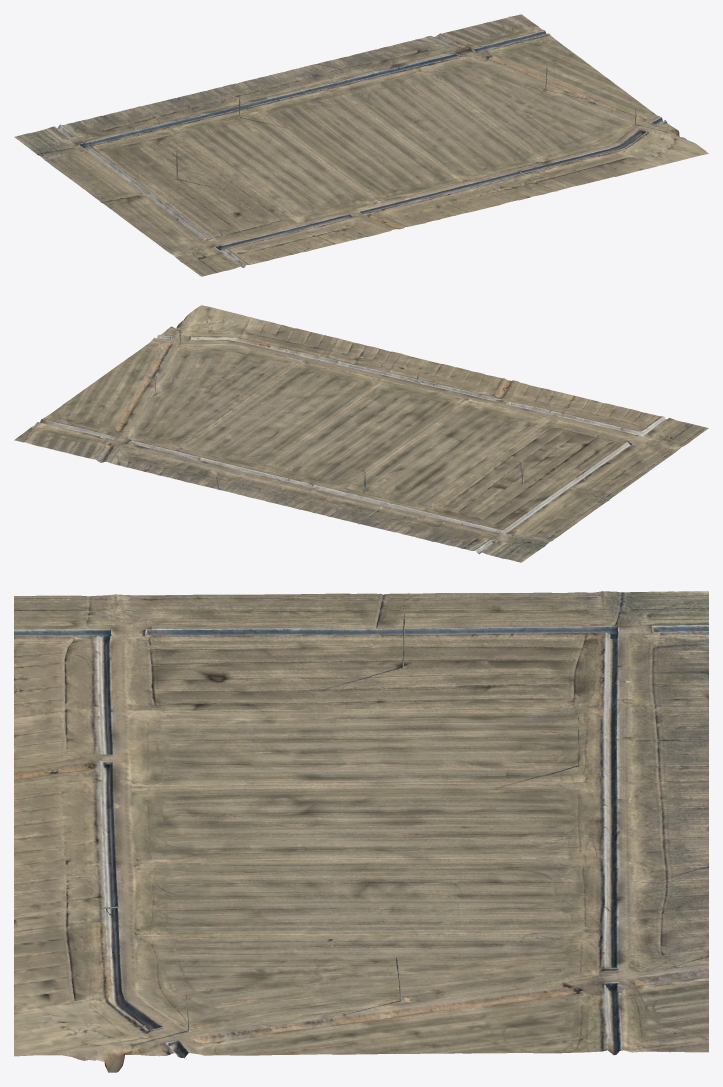
Rendered from village-canal-wide.glb.
3 renders of one model, top to bottom at view 1: azimuth 30°, elevation 25°; view 2: azimuth 150°, elevation 25°; view 3: azimuth 270°, elevation 25°, orthographic. The views are drawn at different scales.
Parts seen in each view (by area): view 1: Object_2; view 2: Object_2; view 3: Object_2.
Boxes of the visible parts, x1=… form: Object_2: x1=14, y1=14, x2=708, y2=276; Object_2: x1=14, y1=305, x2=708, y2=562; Object_2: x1=14, y1=591, x2=708, y2=1072.
Size of the model in its own units: 368 by 32.22 by 235.
Materials: 1 (1 with a texture image).
